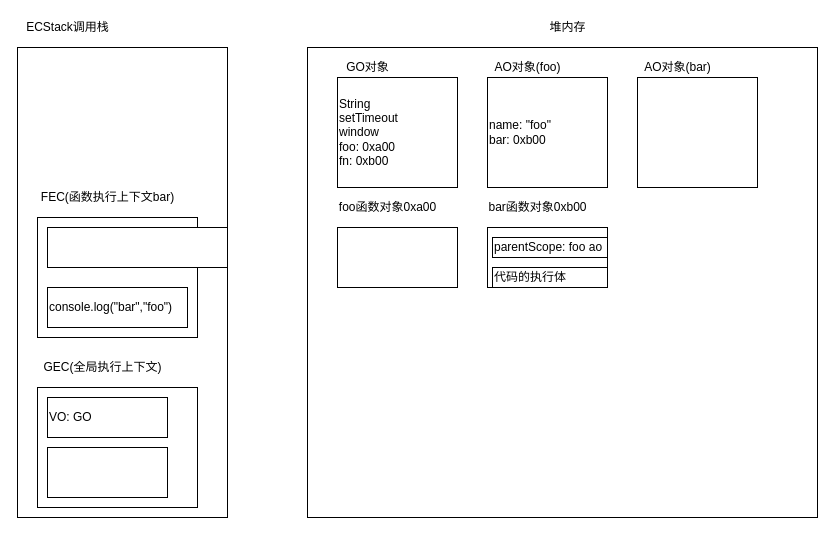
This 835x535 diagram has some shape labels left out. The centre of each missing label's shape, as x and y in pixels:
"VO: AO scope chain: VO+parentScope" goes at [137,247].
"开始执行代码 var fn = 0xb00" goes at [107,472].
